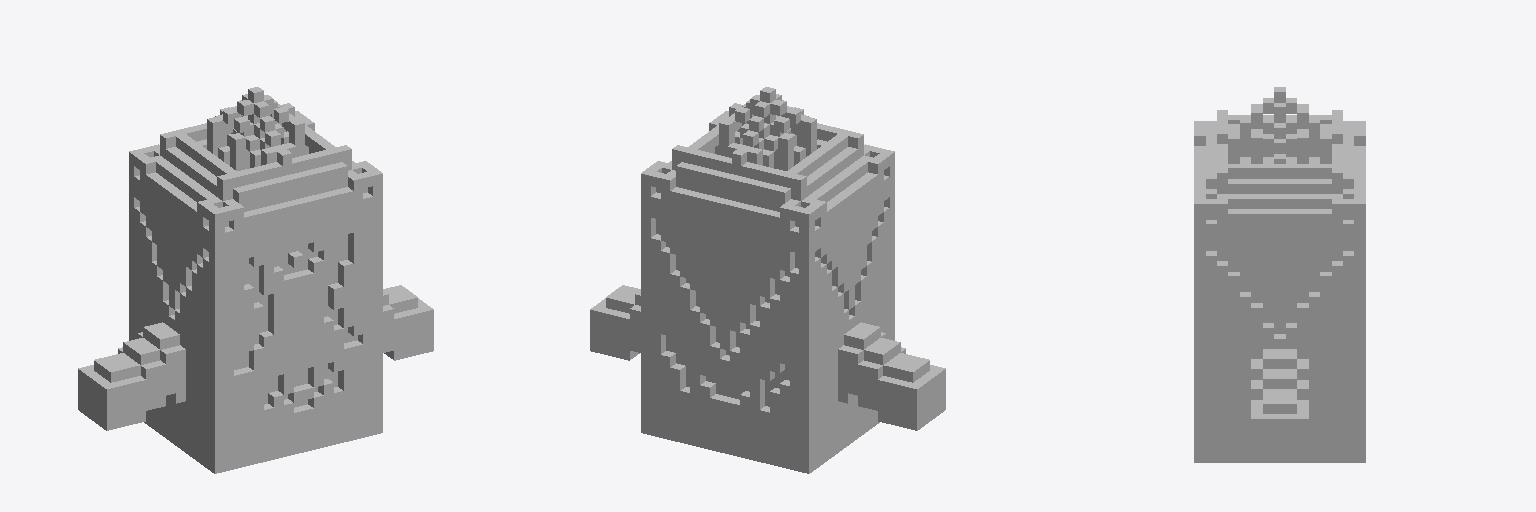
Rendered from The Lasair.obj.
3 renders of one model, left to right at view 1: azimuth 30°, elevation 25°; view 2: azimuth 150°, elevation 25°; view 3: azimuth 270°, elevation 25°, orthographic.
Visible parts, largest first — view 1: The Lasair; view 2: The Lasair; view 3: The Lasair.
Boxes of the visible parts, box(x1,y1,x2,y2) form: The Lasair: box(78, 87, 433, 473); The Lasair: box(590, 87, 945, 473); The Lasair: box(1194, 87, 1365, 462).
Size of the model in its own units: 33 by 32 by 15.